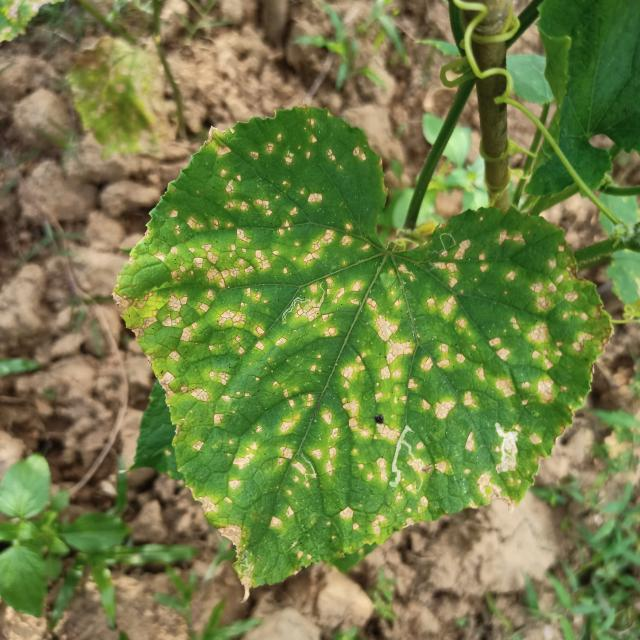disease_cucumber: (128, 126, 584, 573)
